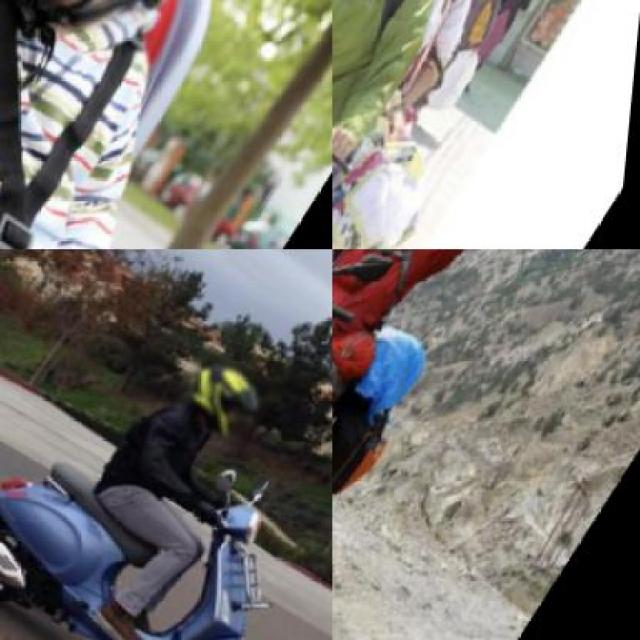With Helmet: (0, 0, 331, 80), (164, 339, 294, 455)
